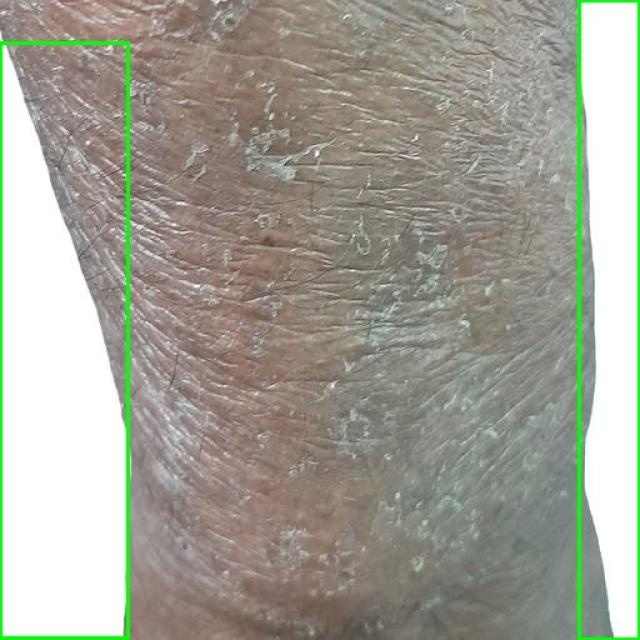Tinea Corporis: (0, 42, 129, 639), (579, 0, 639, 639)
